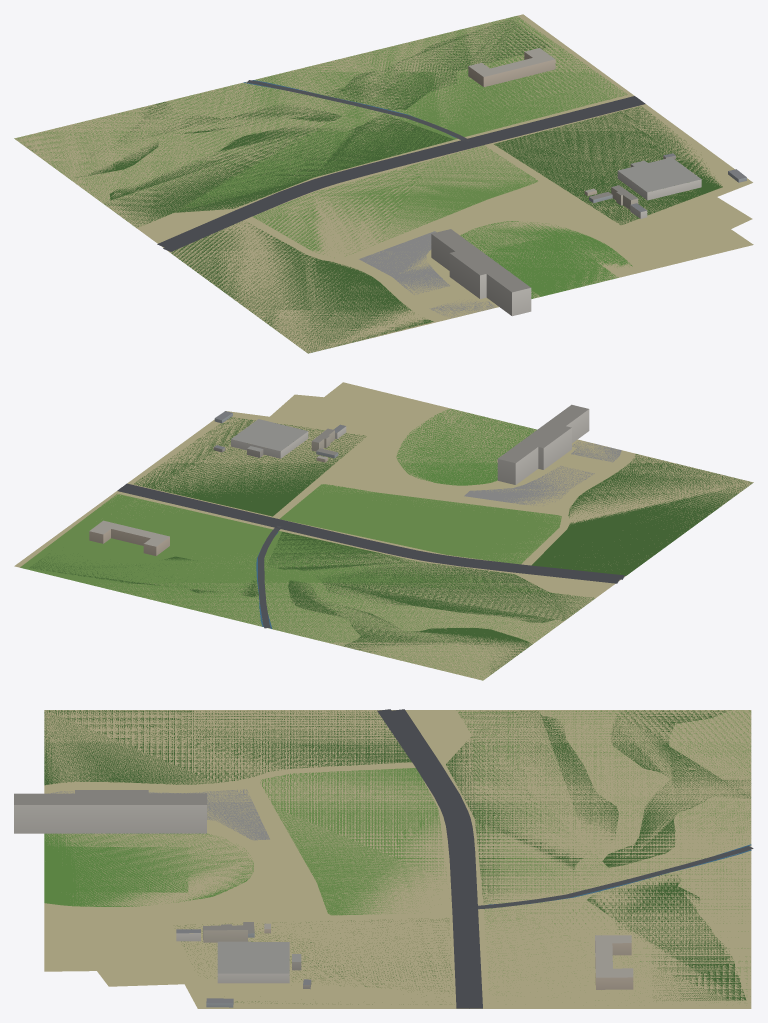
The picture shows the model from 3 angles, top to bottom: view 1: azimuth 30°, elevation 25°; view 2: azimuth 150°, elevation 25°; view 3: azimuth 270°, elevation 25°; orthographic projection. The views are drawn at different scales.
Visible parts, largest first — view 1: landuse, roads, buildings_walls, buildings_roofs; view 2: landuse, roads, buildings_walls, buildings_roofs; view 3: landuse, roads, buildings_walls, buildings_roofs.
Boxes of the visible parts, x1,y1,x2,y2 form: landuse: (14, 14, 753, 353); roads: (157, 80, 645, 251); buildings_walls: (431, 52, 746, 316); buildings_roofs: (431, 48, 746, 292); landuse: (14, 382, 753, 680); roads: (117, 483, 624, 628); buildings_walls: (89, 409, 589, 555); buildings_roofs: (89, 404, 588, 546); landuse: (44, 710, 751, 1008); roads: (377, 709, 753, 1008); buildings_walls: (14, 805, 633, 1007); buildings_roofs: (14, 790, 633, 1003).
Bounding box in the file's own units: 501 × 22.41 × 523.
